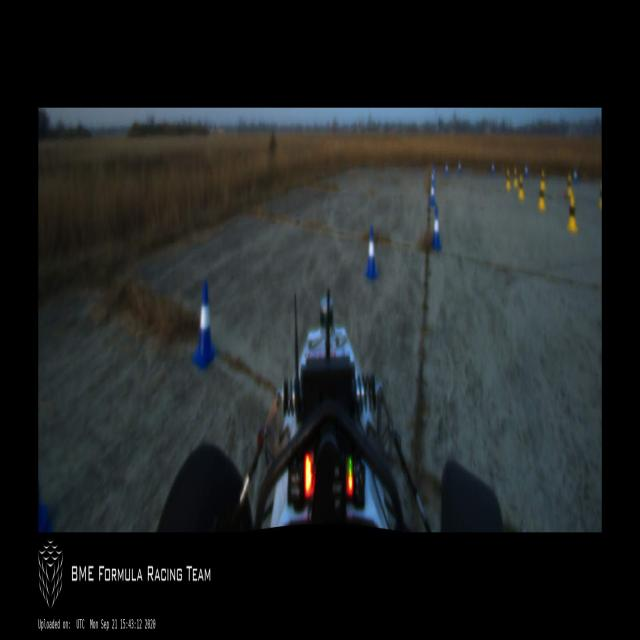blue_cone: (193, 282, 216, 368), (365, 227, 378, 278), (432, 207, 442, 248), (429, 182, 436, 206), (574, 170, 577, 182), (458, 162, 461, 172), (432, 166, 434, 181), (492, 163, 494, 174), (525, 165, 527, 176), (446, 164, 448, 174)
yellow_cone: (567, 193, 578, 232), (538, 186, 546, 211), (519, 175, 525, 200), (567, 174, 573, 196), (505, 169, 511, 190), (513, 168, 518, 188), (540, 171, 545, 190), (599, 182, 602, 209)
